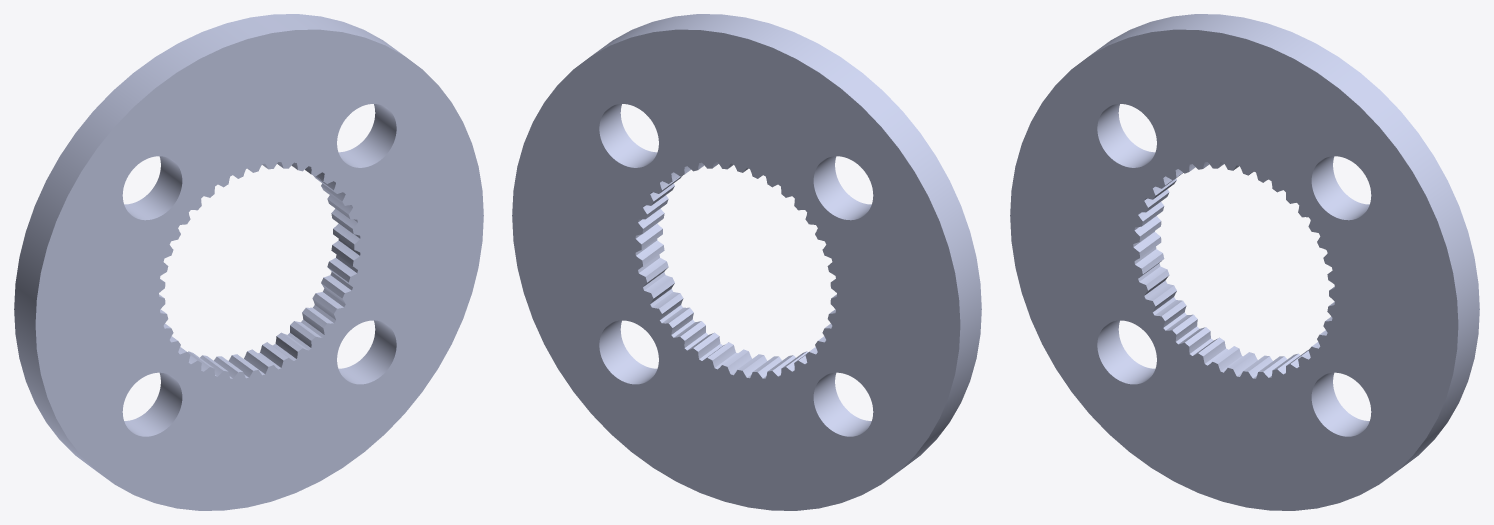
Rendered from REV_21_2103_A02_1_REV_21_2103_P04_1_solid1.obj.
3 renders of one model, left to right at view 1: azimuth 30°, elevation 25°; view 2: azimuth 150°, elevation 25°; view 3: azimuth 330°, elevation 25°, orthographic.
Visible parts, largest first — view 1: mesh26083, mesh26081, mesh26080, mesh26246, mesh26245, mesh26244, mesh26247; view 2: mesh26082, mesh26081, mesh26080, mesh26246, mesh26245, mesh26244, mesh26247; view 3: mesh26083, mesh26081, mesh26080, mesh26247, mesh26244, mesh26245, mesh26246.
Boxes of the visible parts, x1=… form: mesh26083: x1=35, y1=29, x2=483, y2=510; mesh26081: x1=14, y1=14, x2=403, y2=324; mesh26080: x1=14, y1=309, x2=106, y2=478; mesh26246: x1=338, y1=330, x2=396, y2=384; mesh26245: x1=338, y1=113, x2=396, y2=167; mesh26244: x1=124, y1=165, x2=182, y2=220; mesh26247: x1=124, y1=382, x2=182, y2=436; mesh26082: x1=512, y1=29, x2=960, y2=510; mesh26081: x1=592, y1=14, x2=981, y2=324; mesh26080: x1=889, y1=309, x2=981, y2=478; mesh26246: x1=599, y1=330, x2=657, y2=384; mesh26245: x1=599, y1=113, x2=657, y2=167; mesh26244: x1=813, y1=165, x2=871, y2=220; mesh26247: x1=813, y1=382, x2=871, y2=436; mesh26083: x1=1010, y1=29, x2=1458, y2=510; mesh26081: x1=1090, y1=14, x2=1479, y2=324; mesh26080: x1=1387, y1=309, x2=1479, y2=478; mesh26247: x1=1097, y1=330, x2=1155, y2=384; mesh26244: x1=1097, y1=113, x2=1155, y2=167; mesh26245: x1=1311, y1=165, x2=1369, y2=220; mesh26246: x1=1311, y1=382, x2=1369, y2=436.
Bounding box in the file's own units: 0.045 × 0.0449 × 0.00372.
